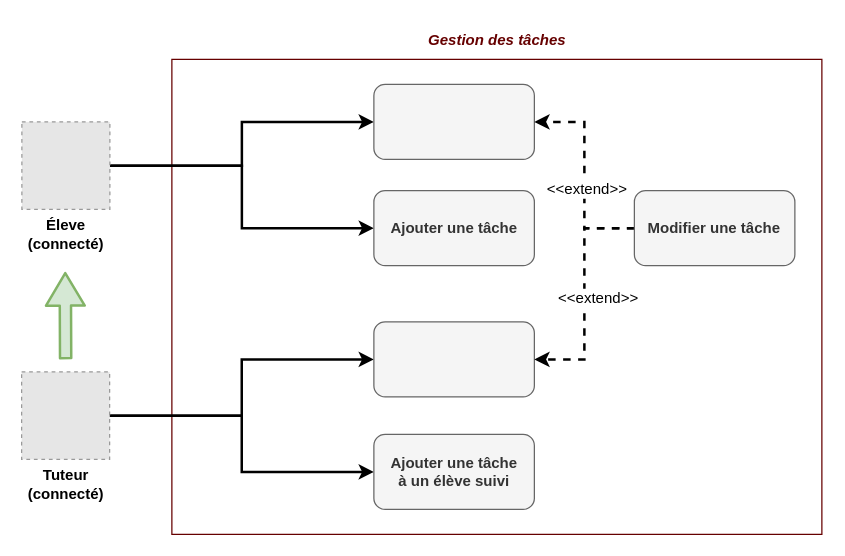
This 845x556 diagram has some shape labels left out. Grey dashed boxes stand in for pictures. The shapes that lost their labels are listed below. From the top down, each one's centre as x and y in pixels, then its label:
At point (453, 121): "Consulter ses tâches".
At point (453, 359): "Consulter les tâches attribuées à ses élèves".
